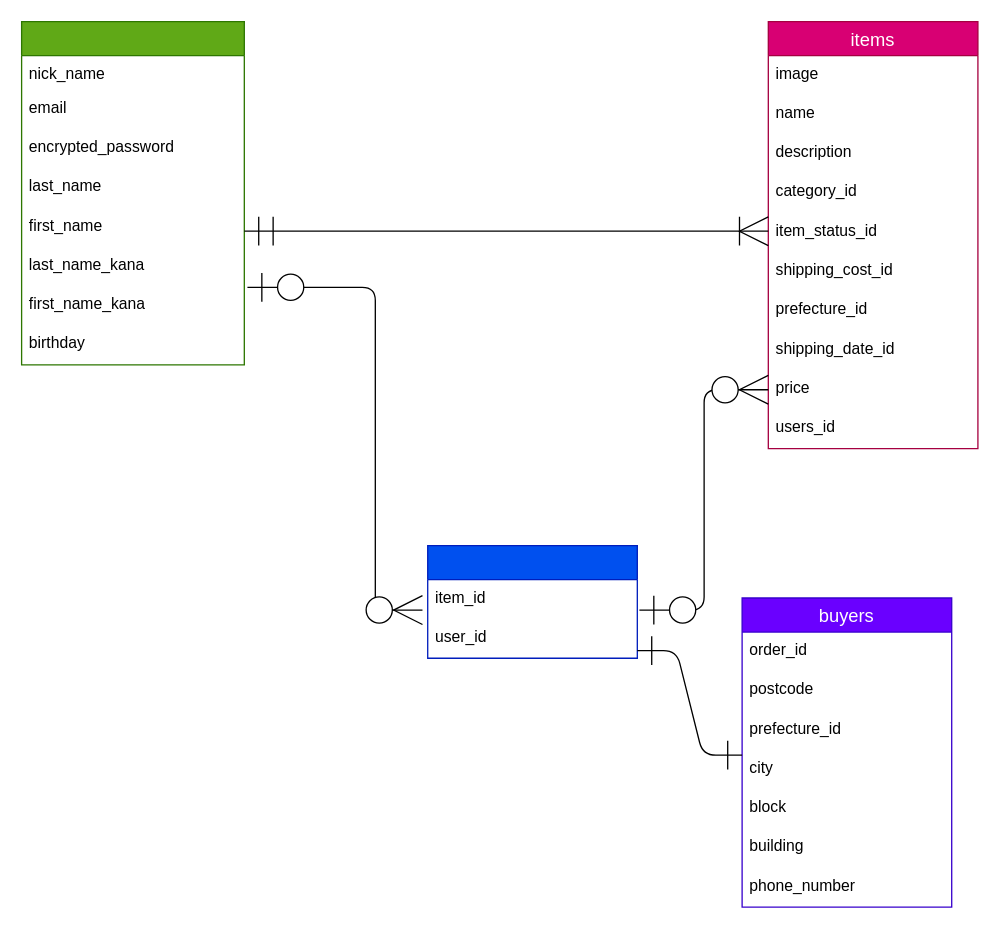
The diagram is 1000 pixels wide and 929 high, and some of its shapes have lost their labels. The shapes that lost their labels are listed below. From the top down, each one's box as (x1, y1, x2, y2) in pixels, then its label:
(20, 20, 244, 365): users
(426, 544, 637, 658): orders
